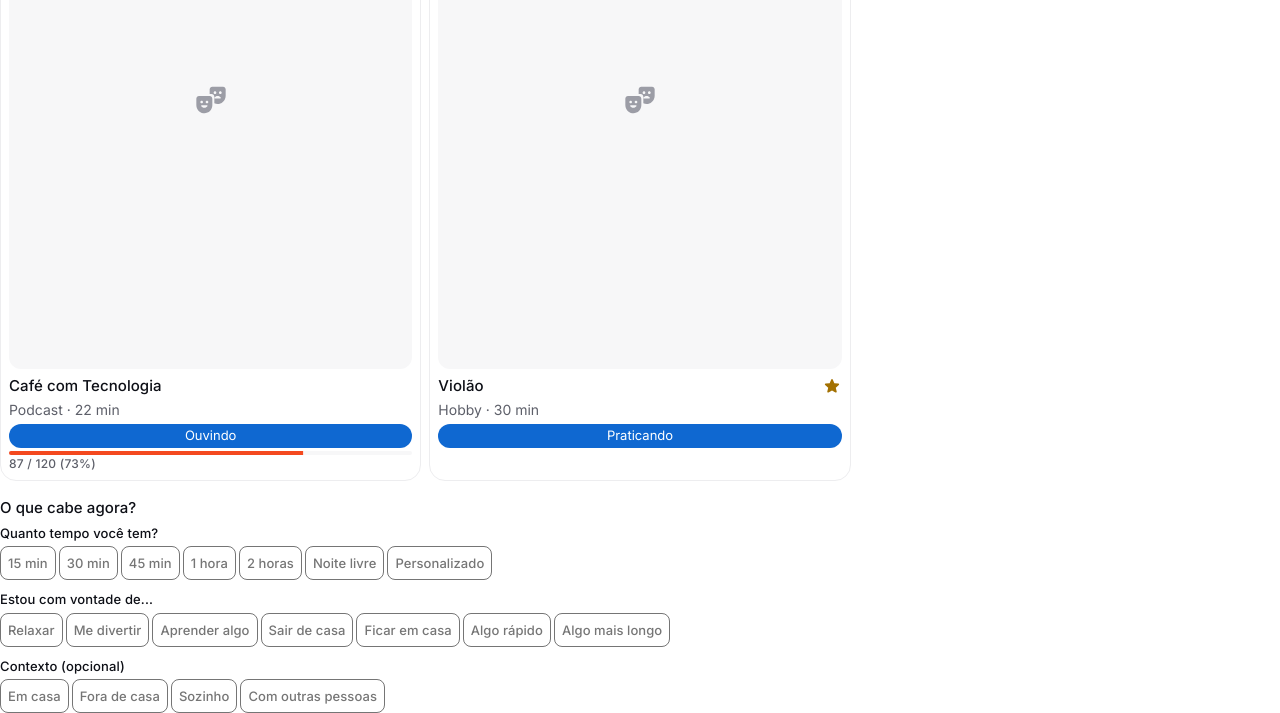
Scenario: TodayPage › surfaces "O que cabe agora?" suggestions
(page scrolled)
Expected: the text "O que cabe agora?" is shown, [0,498,136,517]
Click the button "15 min". click: (28, 563)
box: [0,546,56,580]
(page scrolled)
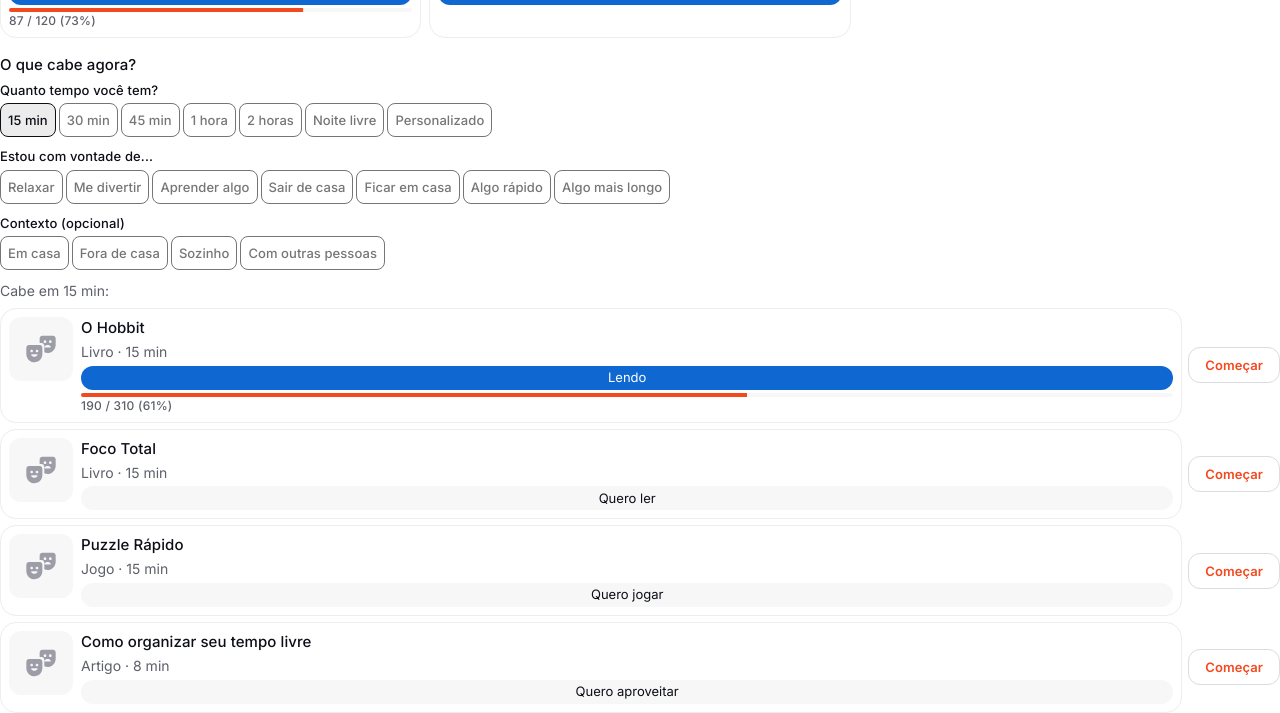
Now the text "Puzzle Rápido" is shown, box [81,534,184,555]
